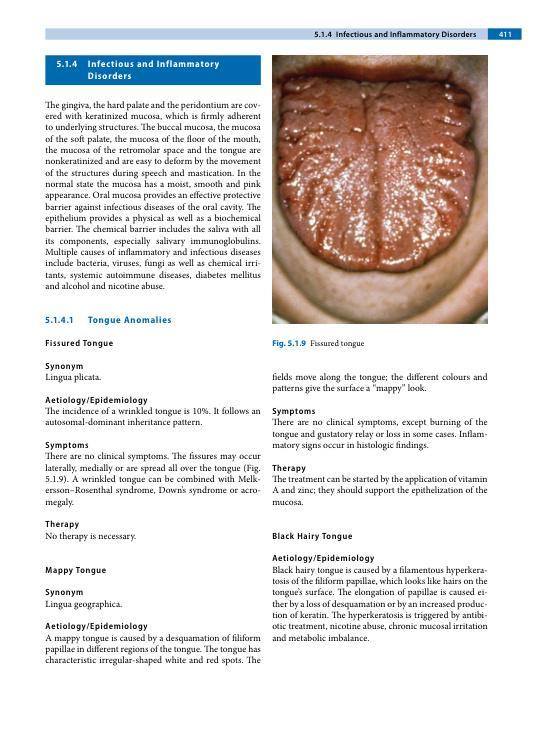caption: (271, 339, 365, 349)
header: (334, 29, 477, 40)
image: (271, 54, 488, 324)
section-heading: (87, 59, 220, 81)
sub-section-heading: (43, 621, 149, 632), (44, 395, 149, 406), (271, 554, 375, 564), (271, 531, 354, 543), (87, 315, 173, 326), (44, 338, 115, 350), (44, 565, 107, 577), (271, 406, 317, 417), (44, 440, 89, 451), (44, 587, 85, 598), (44, 519, 81, 531), (270, 463, 308, 474), (44, 362, 84, 372)
text: (44, 100, 262, 291), (271, 565, 489, 643), (44, 451, 261, 509), (271, 417, 488, 452), (44, 633, 262, 667), (271, 474, 488, 506), (271, 371, 489, 395), (44, 407, 262, 429), (45, 531, 137, 543), (45, 599, 123, 612), (45, 372, 102, 384)
